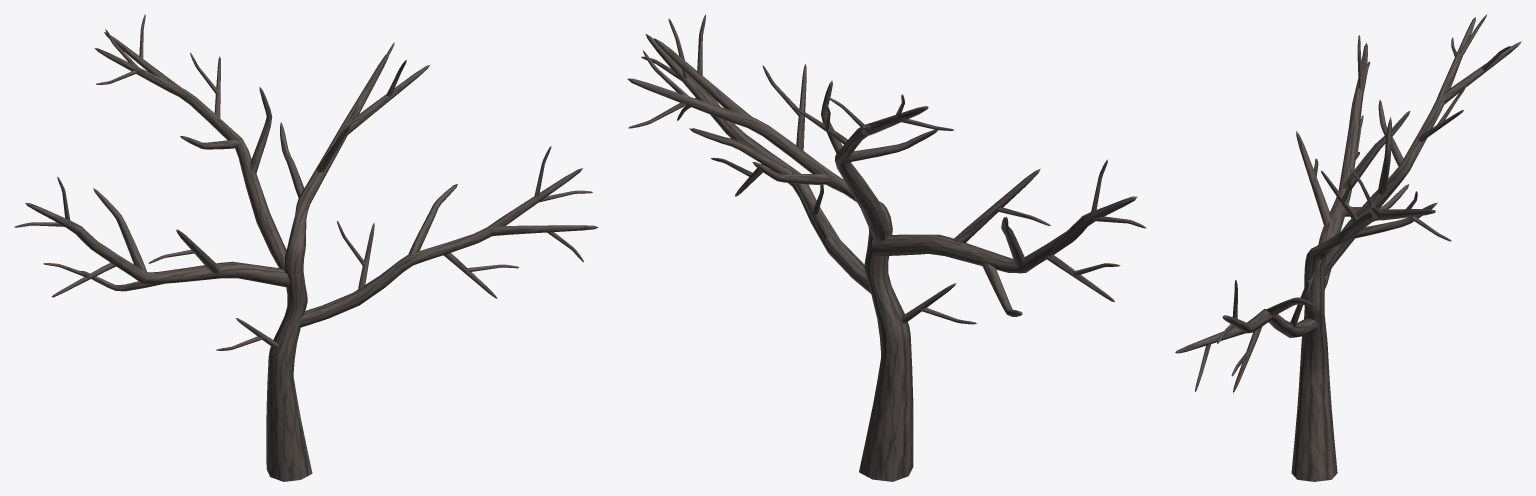
File: dead_tree_03.glb
3 views of the same model, side by side, from view 1: azimuth 30°, elevation 25°; view 2: azimuth 150°, elevation 25°; view 3: azimuth 270°, elevation 25° (orthographic). The views are drawn at different scales.
Parts seen in each view (by area): view 1: DeadTree_8; view 2: DeadTree_8; view 3: DeadTree_8.
Boxes of the visible parts, <box> form: DeadTree_8: <box>14,14,598,481</box>; DeadTree_8: <box>627,14,1146,481</box>; DeadTree_8: <box>1175,14,1521,481</box>.
Size of the model in its own units: 8.17 by 6.28 by 4.8.
1 material, 1 textured.
